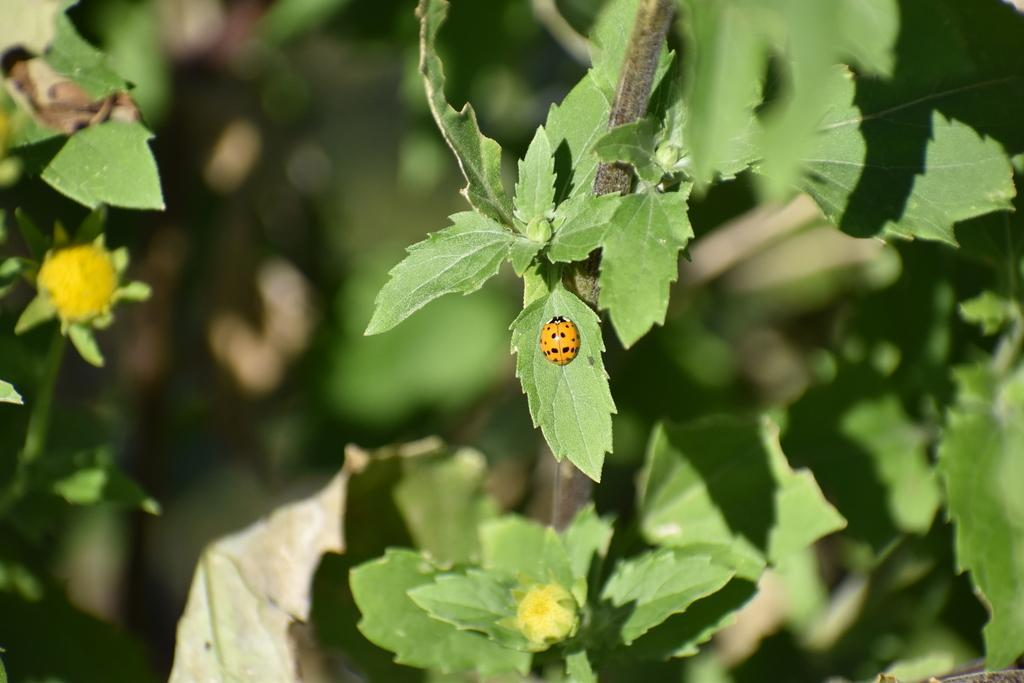ladybug: (539, 315, 584, 369)
